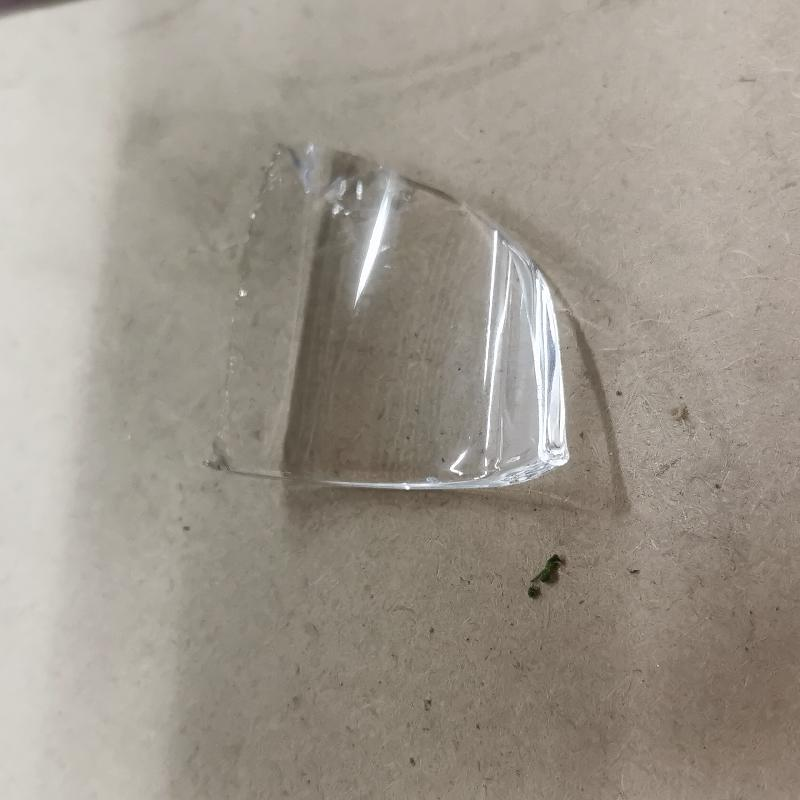glass: (203, 136, 582, 496)
